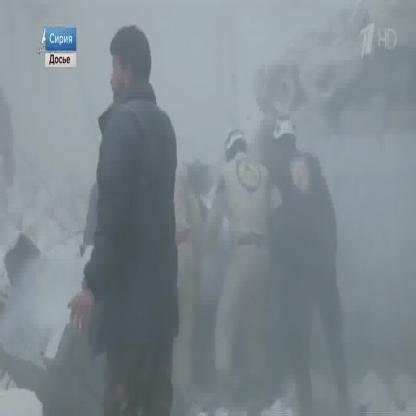helmet: (270, 114, 296, 143), (223, 130, 247, 154)
